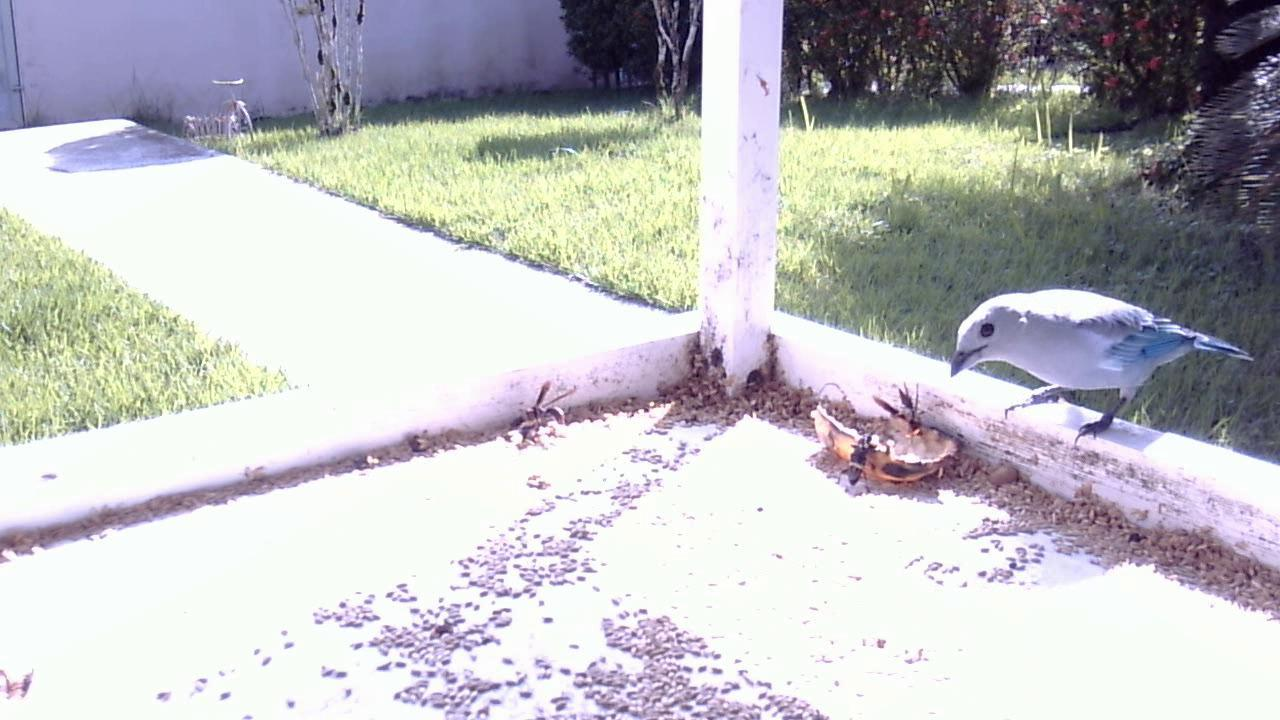sanhaco_da_amazonia: (944, 274, 1256, 464)
